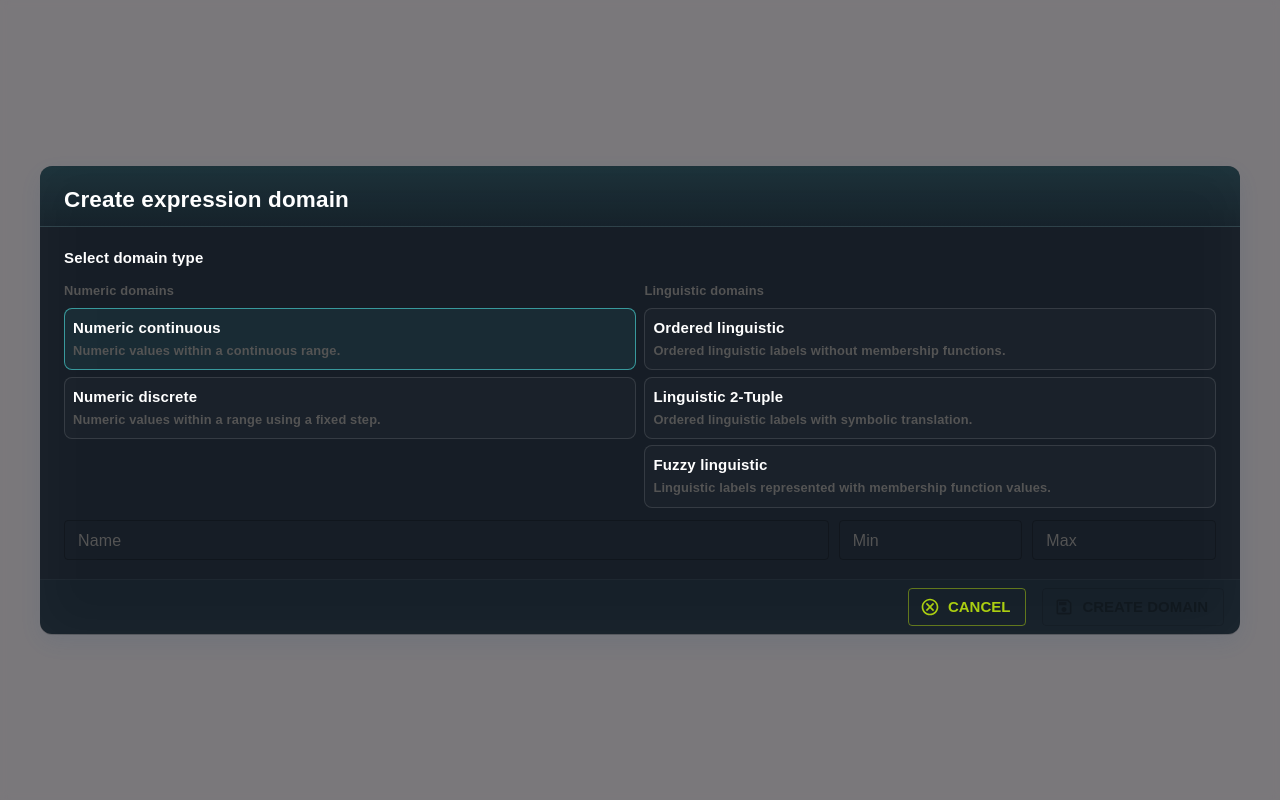
Test: CreateExpressionDomainDialog › renders the registered linguistic 2-tuple creation form when selected
The image size is (1280, 800).
Click the button "Linguistic 2-Tuple": (718, 396) [644, 377, 1216, 439]
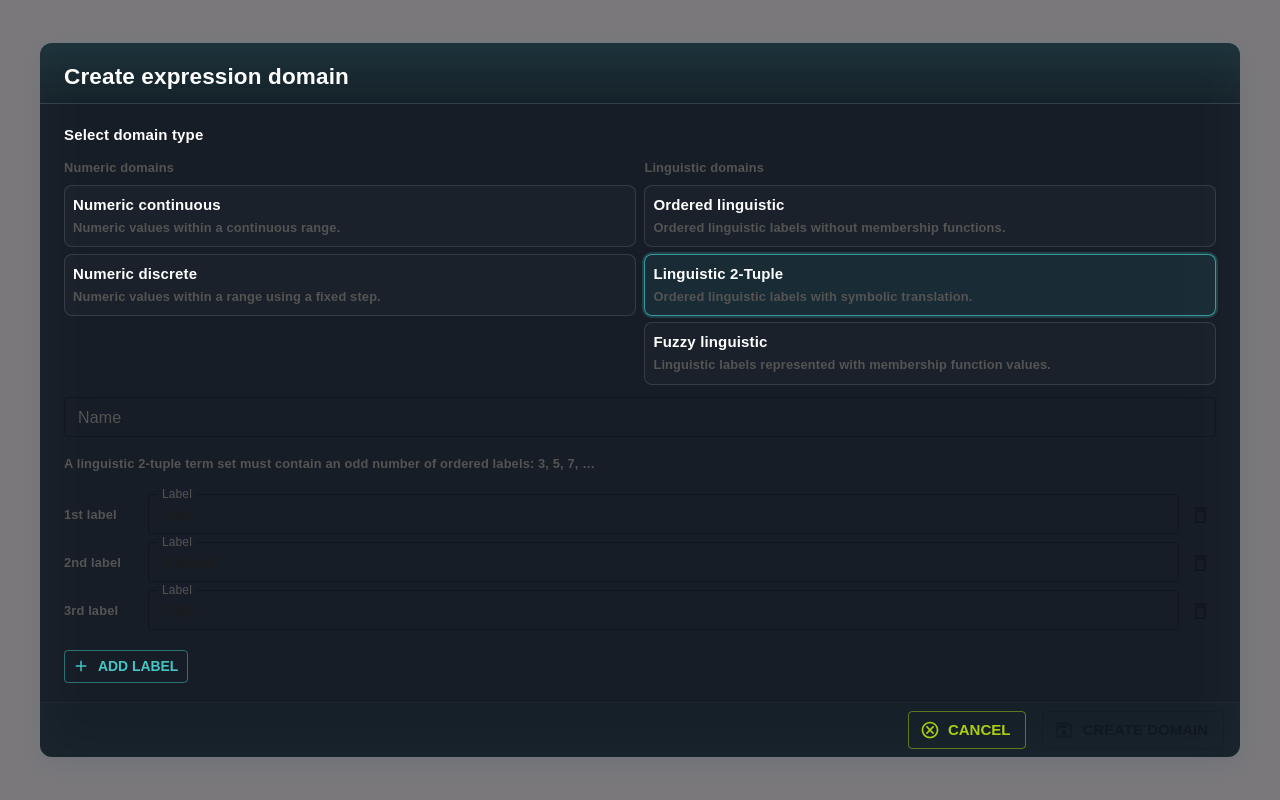
Result: the text "A linguistic 2-tuple term set must contain an odd number of ordered labels: 3, 5, 7, …" is shown at [64, 456, 595, 471]
Result: the number of fields labelled "Label" is 3 at [148, 494, 1179, 534]; [148, 542, 1179, 582]; [148, 590, 1179, 630]
